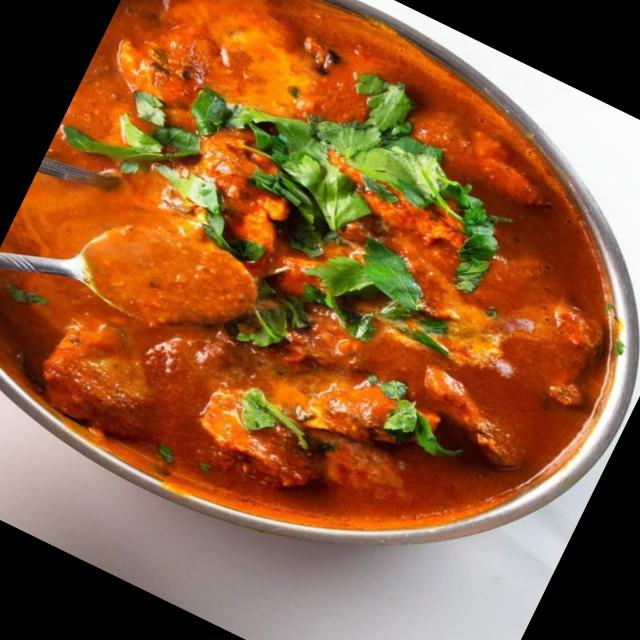chicken: (0, 0, 621, 587)
